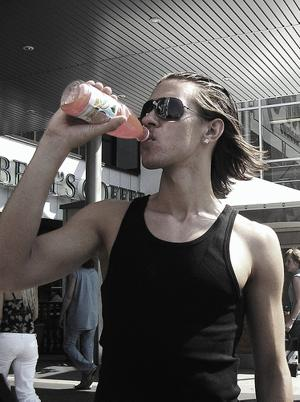person: (2, 71, 294, 402)
